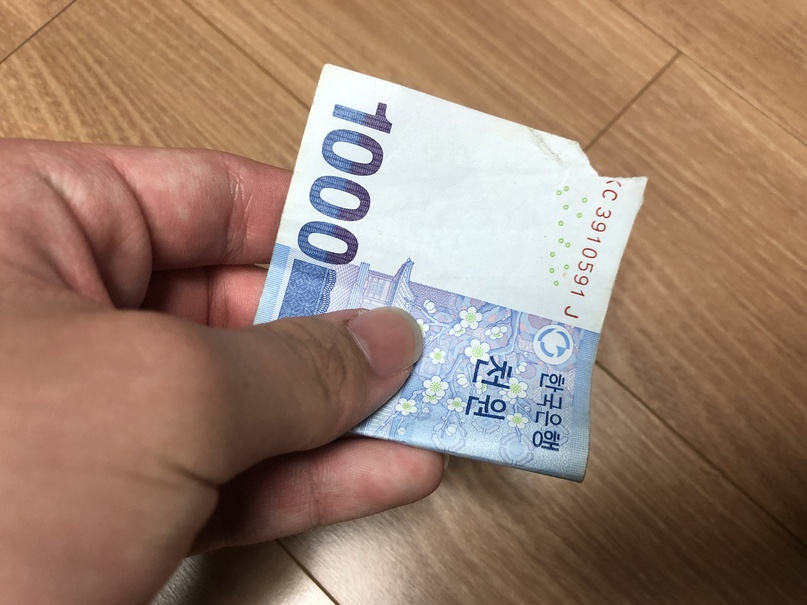1000won: (252, 62, 648, 482)
